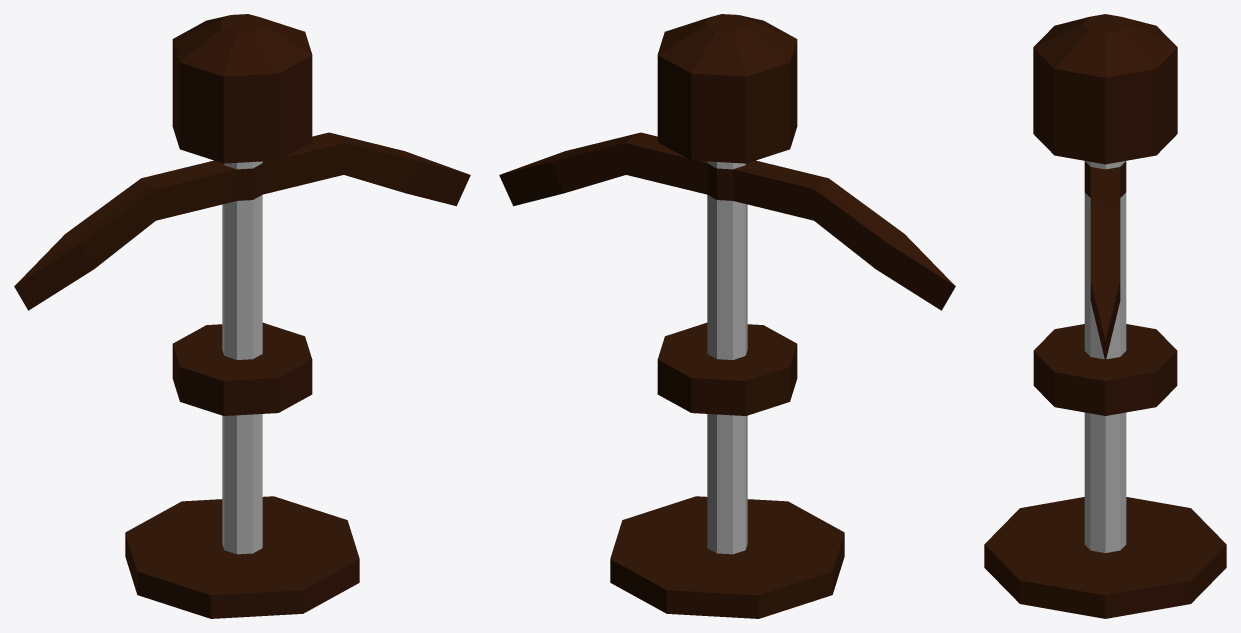
File: armor_holder.fbx
3 views of the same model, side by side, from view 1: azimuth 30°, elevation 25°; view 2: azimuth 150°, elevation 25°; view 3: azimuth 270°, elevation 25° (orthographic).
Parts seen in each view (by area): view 1: Cylinder.014; view 2: Cylinder.014; view 3: Cylinder.014.
Part boxes in pixels (bbox=[...]): Cylinder.014: bbox=[14, 14, 470, 618]; Cylinder.014: bbox=[499, 14, 955, 618]; Cylinder.014: bbox=[984, 14, 1226, 618].
Bounding box in the file's own units: 434 × 496 × 200.
1 material, 1 textured.
